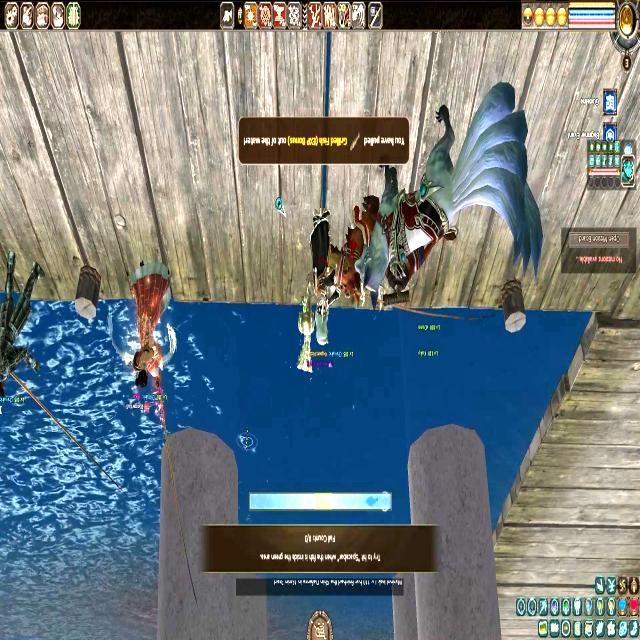fishes: (366, 496, 377, 508)
